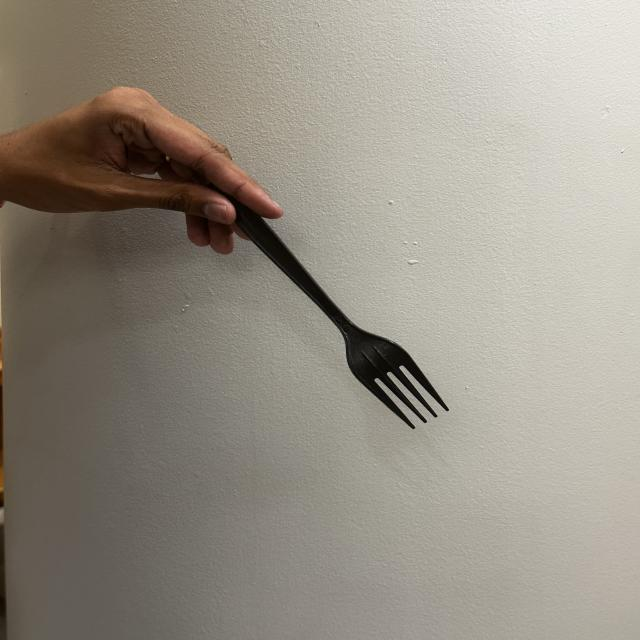fork: (199, 170, 469, 441)
